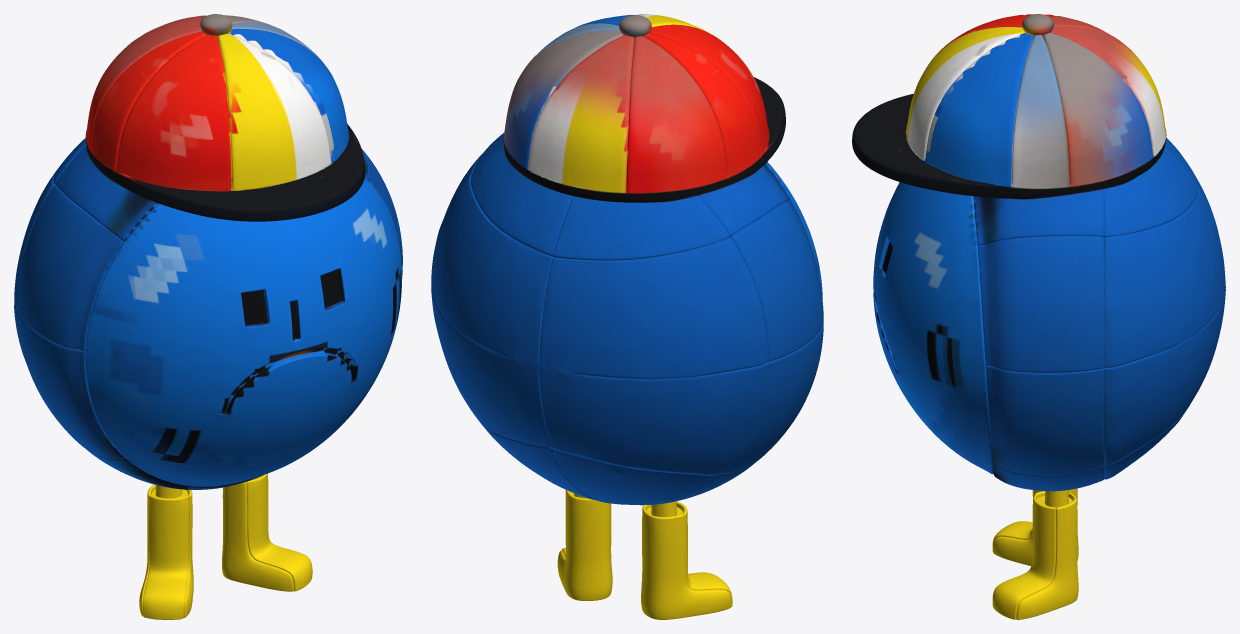
The model's file is Stressed_Blue_Cap_Orb.glb.
3 renders of one model, left to right at view 1: azimuth 30°, elevation 25°; view 2: azimuth 150°, elevation 25°; view 3: azimuth 270°, elevation 25°, orthographic. The views are drawn at different scales.
Size of the model in its own units: 1.22 by 1.9 by 1.14.
1 material, 1 textured.
